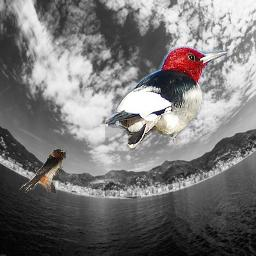Swallow: (19, 149, 66, 193)
Woodpecker: (105, 46, 231, 150)
